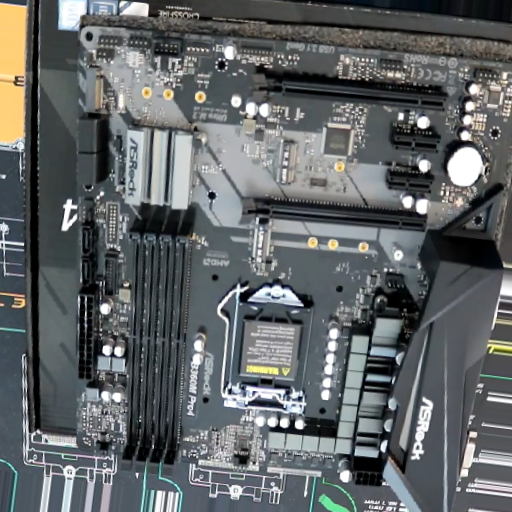CPU: (224, 284, 315, 414)
GPU: (251, 73, 449, 115), (237, 197, 427, 237)
MOTHERBOARD: (75, 26, 512, 482)
RAM: (118, 222, 196, 475)
SSD: (251, 220, 275, 273), (274, 140, 297, 185), (85, 67, 104, 110)
